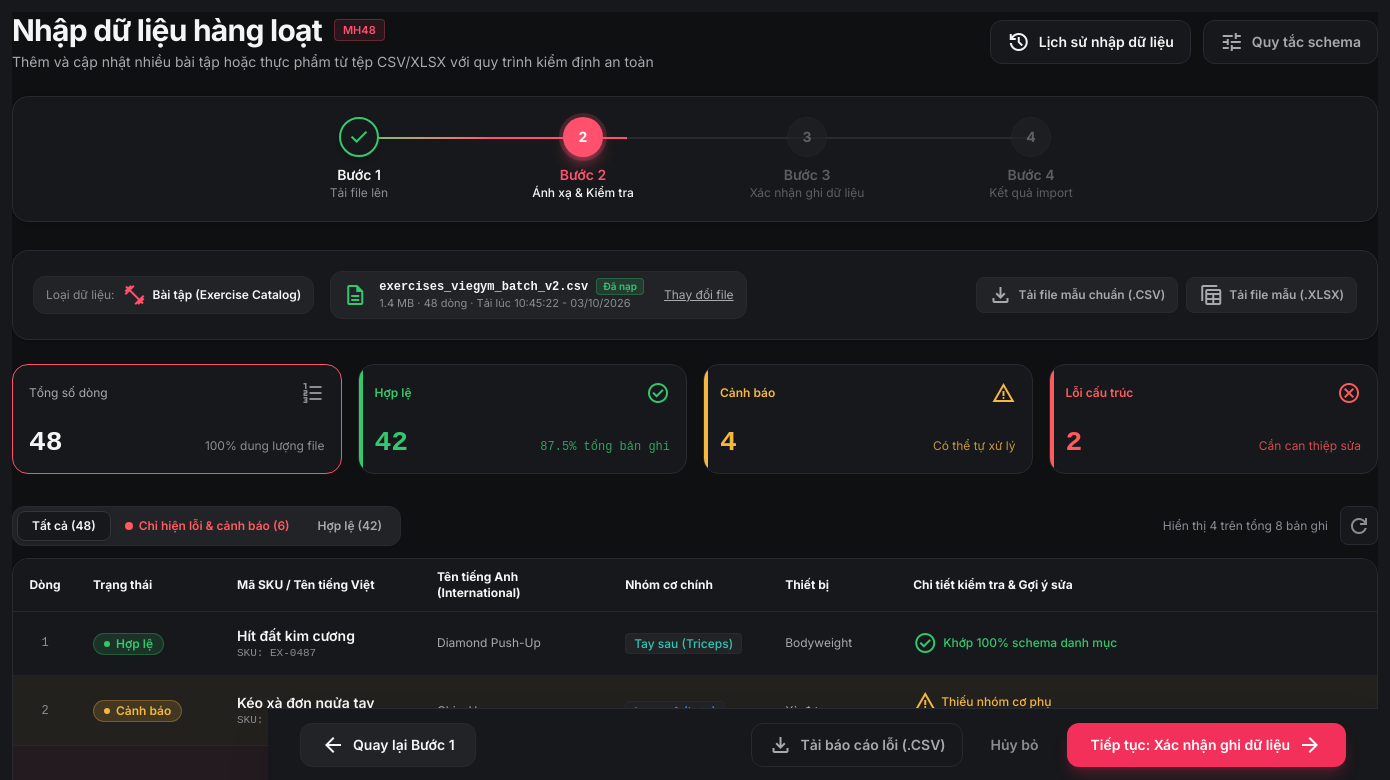
Scenario: BulkImportPage (MH48) › filters table rows when clicking segmented filter pills
Expected: the text "Hít đất kim cương" is shown, [237,626,355,644]
Click the button "Chỉ hiện lỗi & cảnh báo (6)".
click(207, 526)  # box [111,512,304,540]
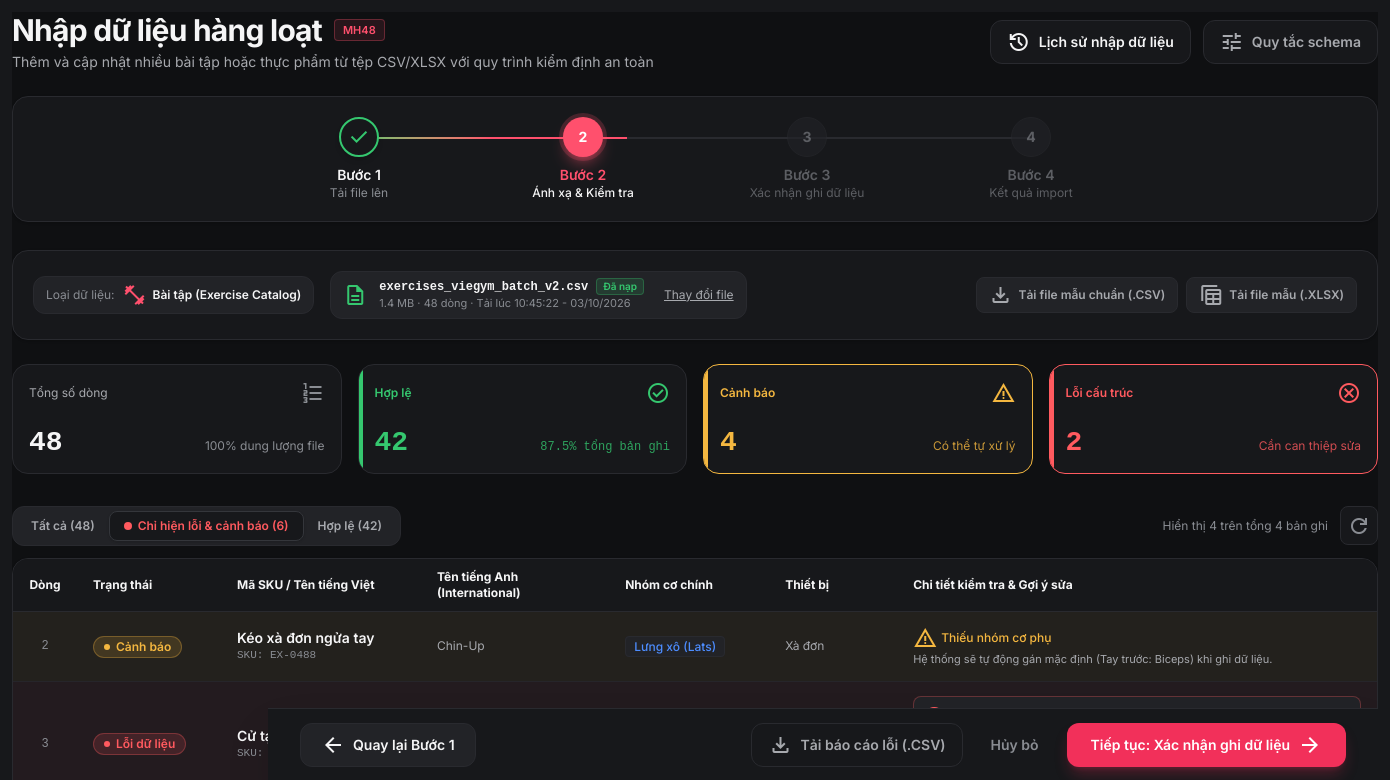
Expected: the text "Kéo xà đơn ngửa tay" is shown, [237,629,374,646]
Expected: the text "Cử tạ giật Olympic" is shown, [237,727,361,744]
# Filter "Hợp lệ (42)"
Click the button "Hợp lệ (42)".
click(350, 526)  # box [304,512,396,540]
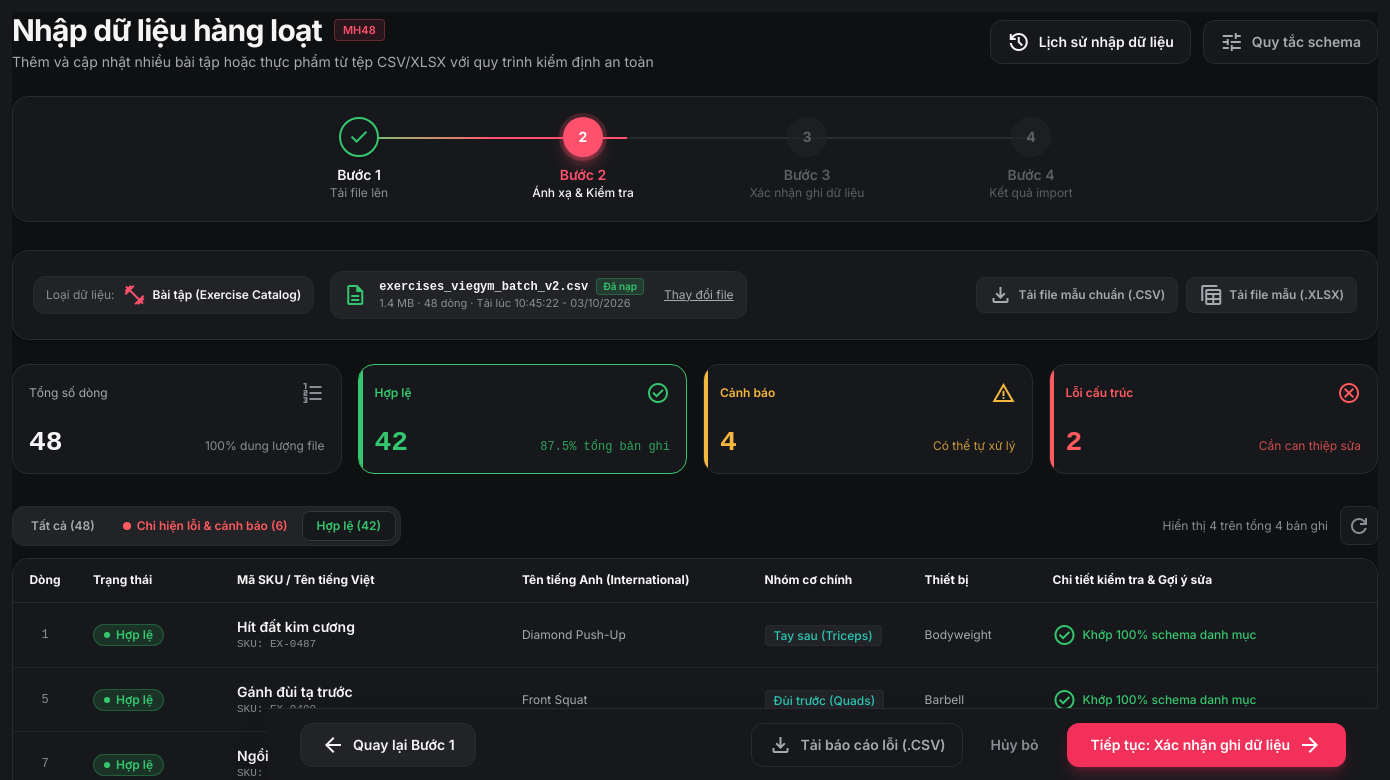
Expected: the text "Hít đất kim cương" is shown, [237,618,355,635]
